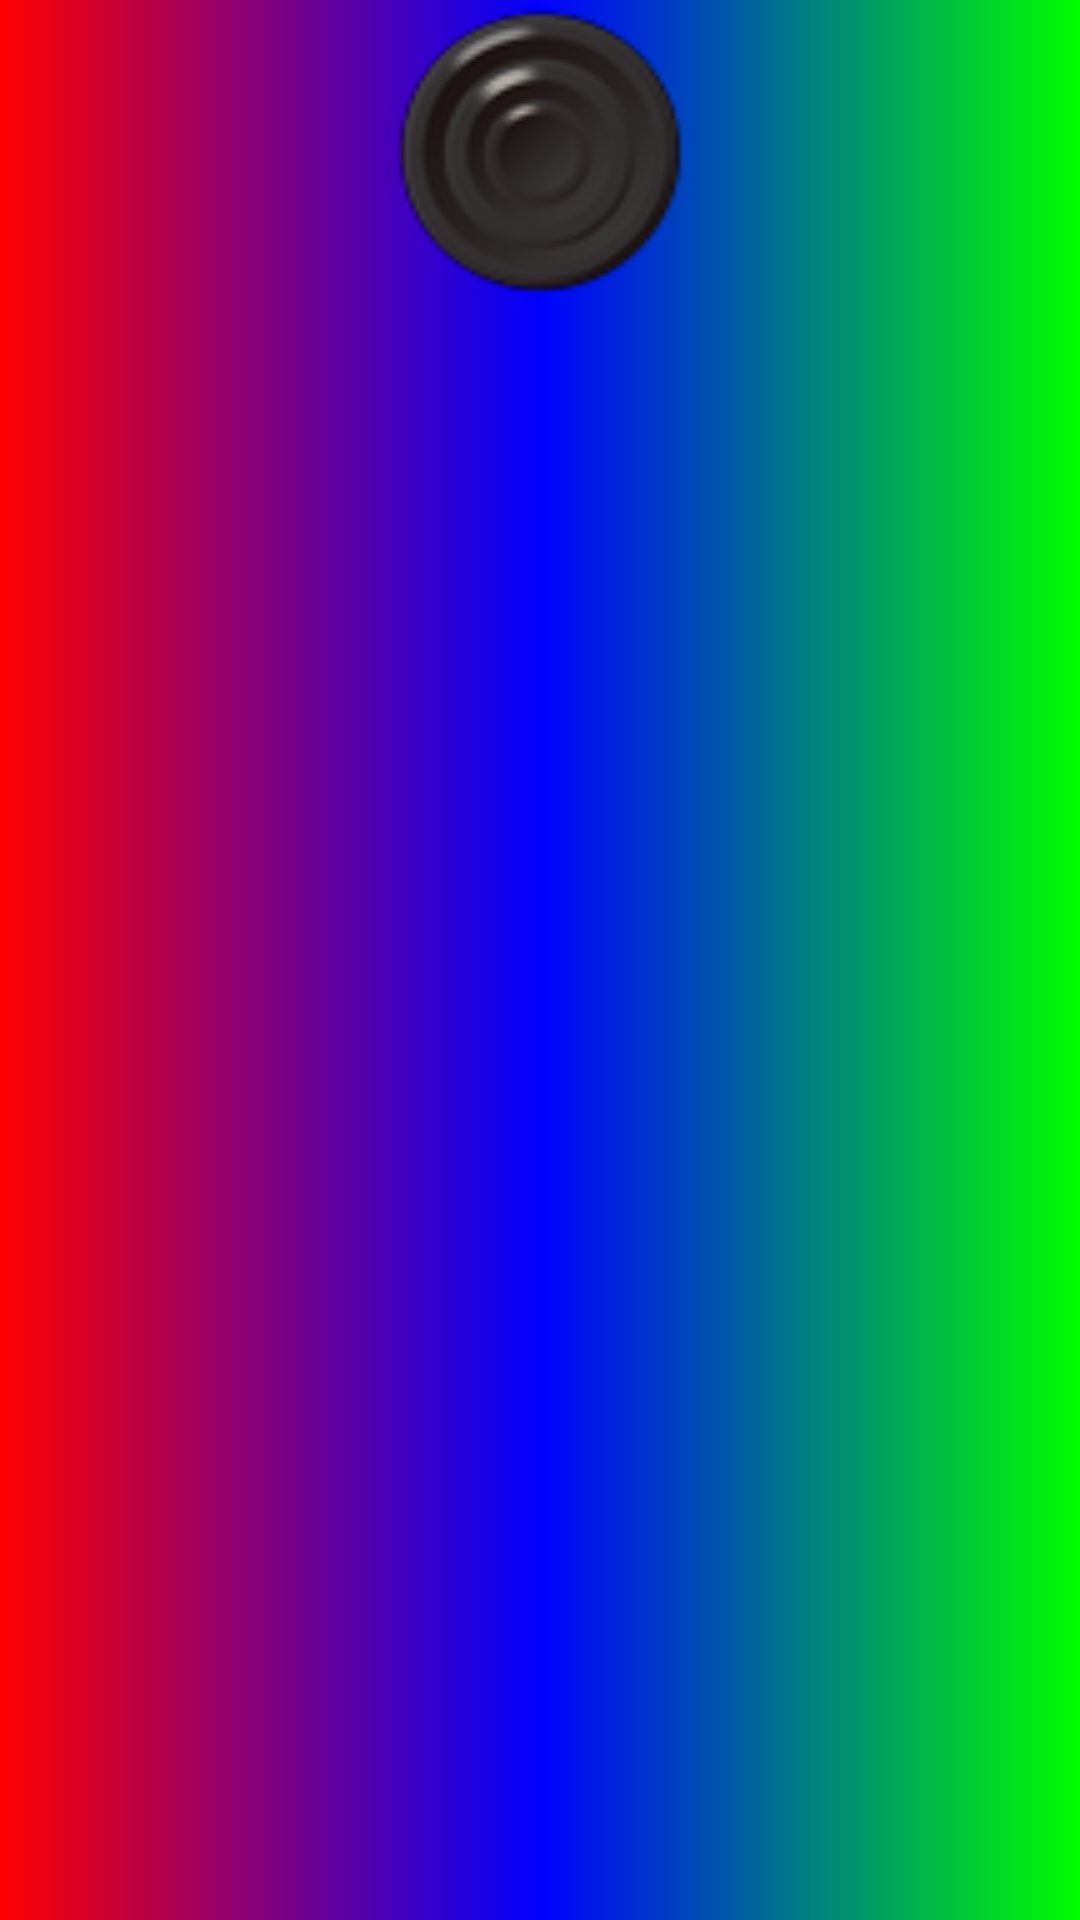

Screen size 1080 × 1920. Icon name, then its center in pixels as [x,y]:
draught: [540,150]
